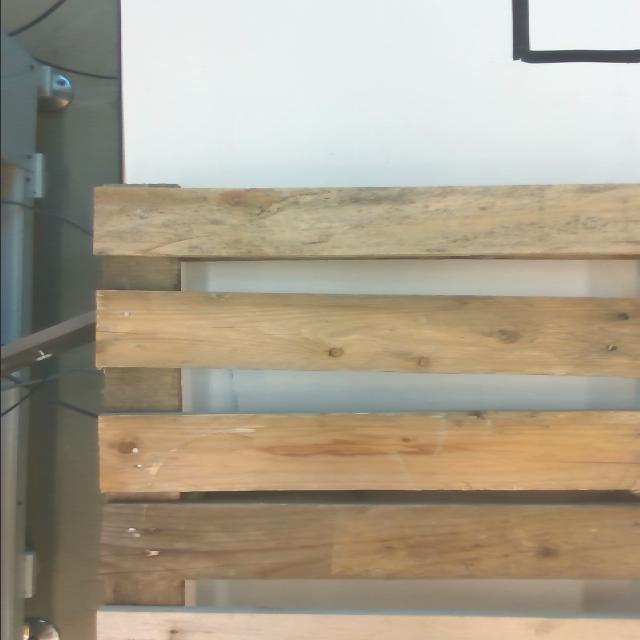pallet: (91, 184, 640, 640)
